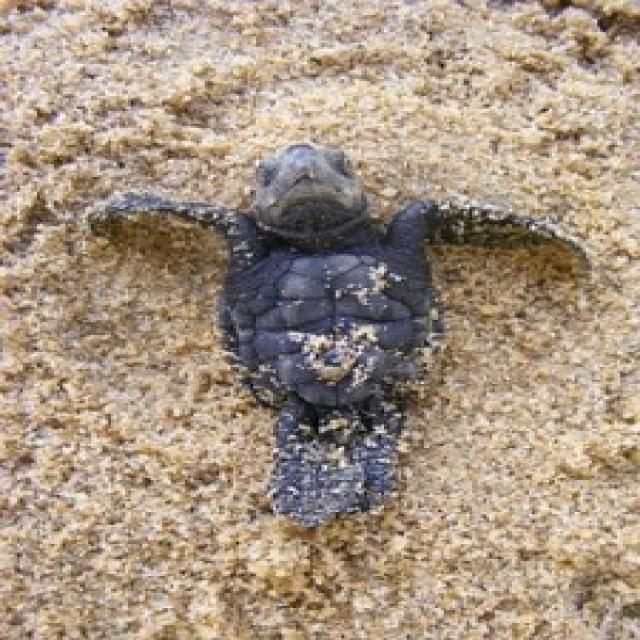Sea turtle: (31, 155, 591, 551)
